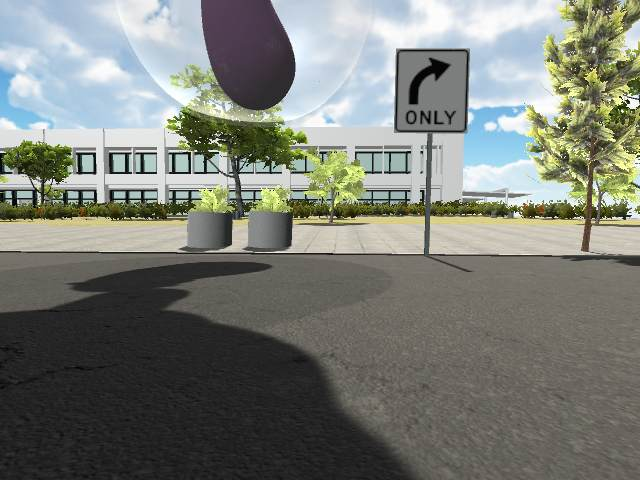arrow_right: (408, 56, 453, 104)
